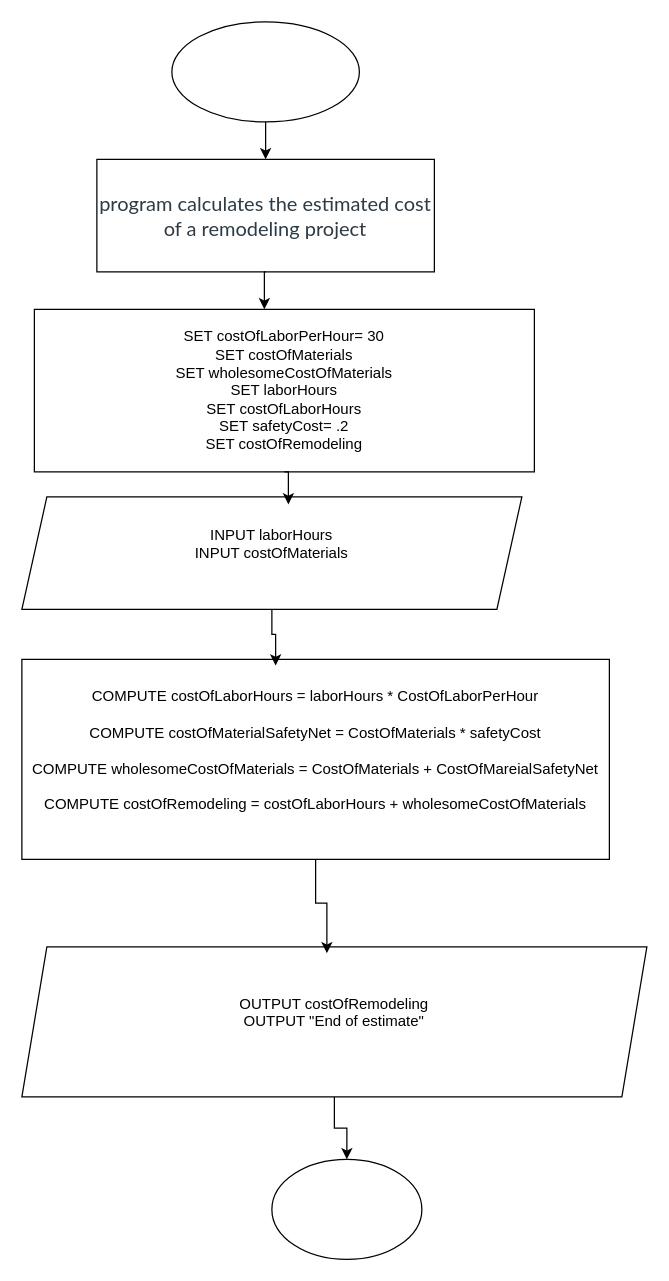
Some shapes in this 669 by 1281 pixel diagram are drawn without their labels. The centre of each missing label's shape, as x and y in pixels:
"START" goes at [265,71].
"STOP" goes at [346,1208].
